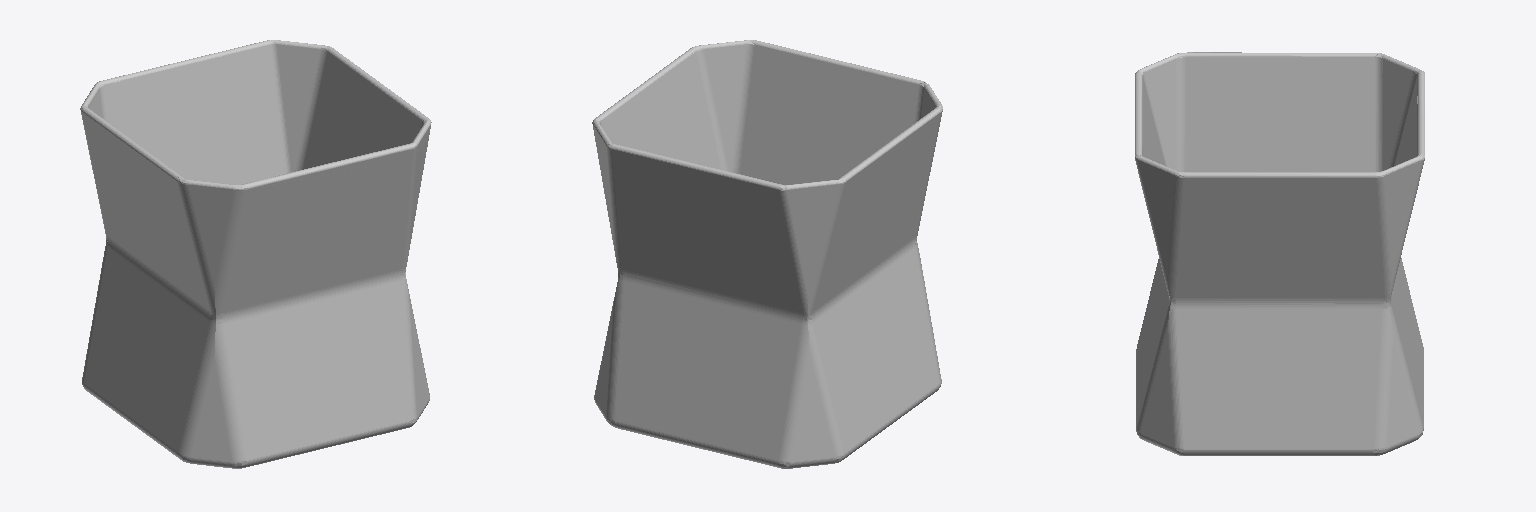
The model's file is whiskey1.obj.
3 views of the same model, side by side, from view 1: azimuth 30°, elevation 25°; view 2: azimuth 150°, elevation 25°; view 3: azimuth 270°, elevation 25° (orthographic).
Visible parts, largest first — view 1: Objeto Objeto1; view 2: Objeto Objeto1; view 3: Objeto Objeto1.
Boxes of the visible parts, <box> form: Objeto Objeto1: <box>80,40,431,468</box>; Objeto Objeto1: <box>592,40,942,468</box>; Objeto Objeto1: <box>1135,52,1424,455</box>.
Size of the model in its own units: 368 by 400 by 368.